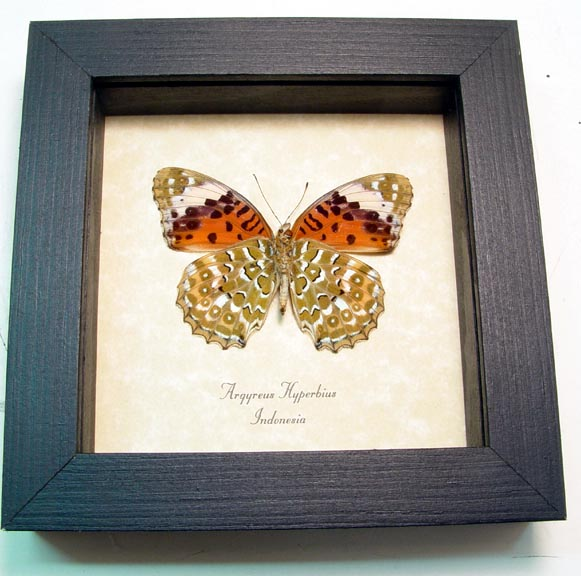Argyreus hyperbius: (150, 160, 413, 359)
butterfly: (152, 162, 415, 361)
